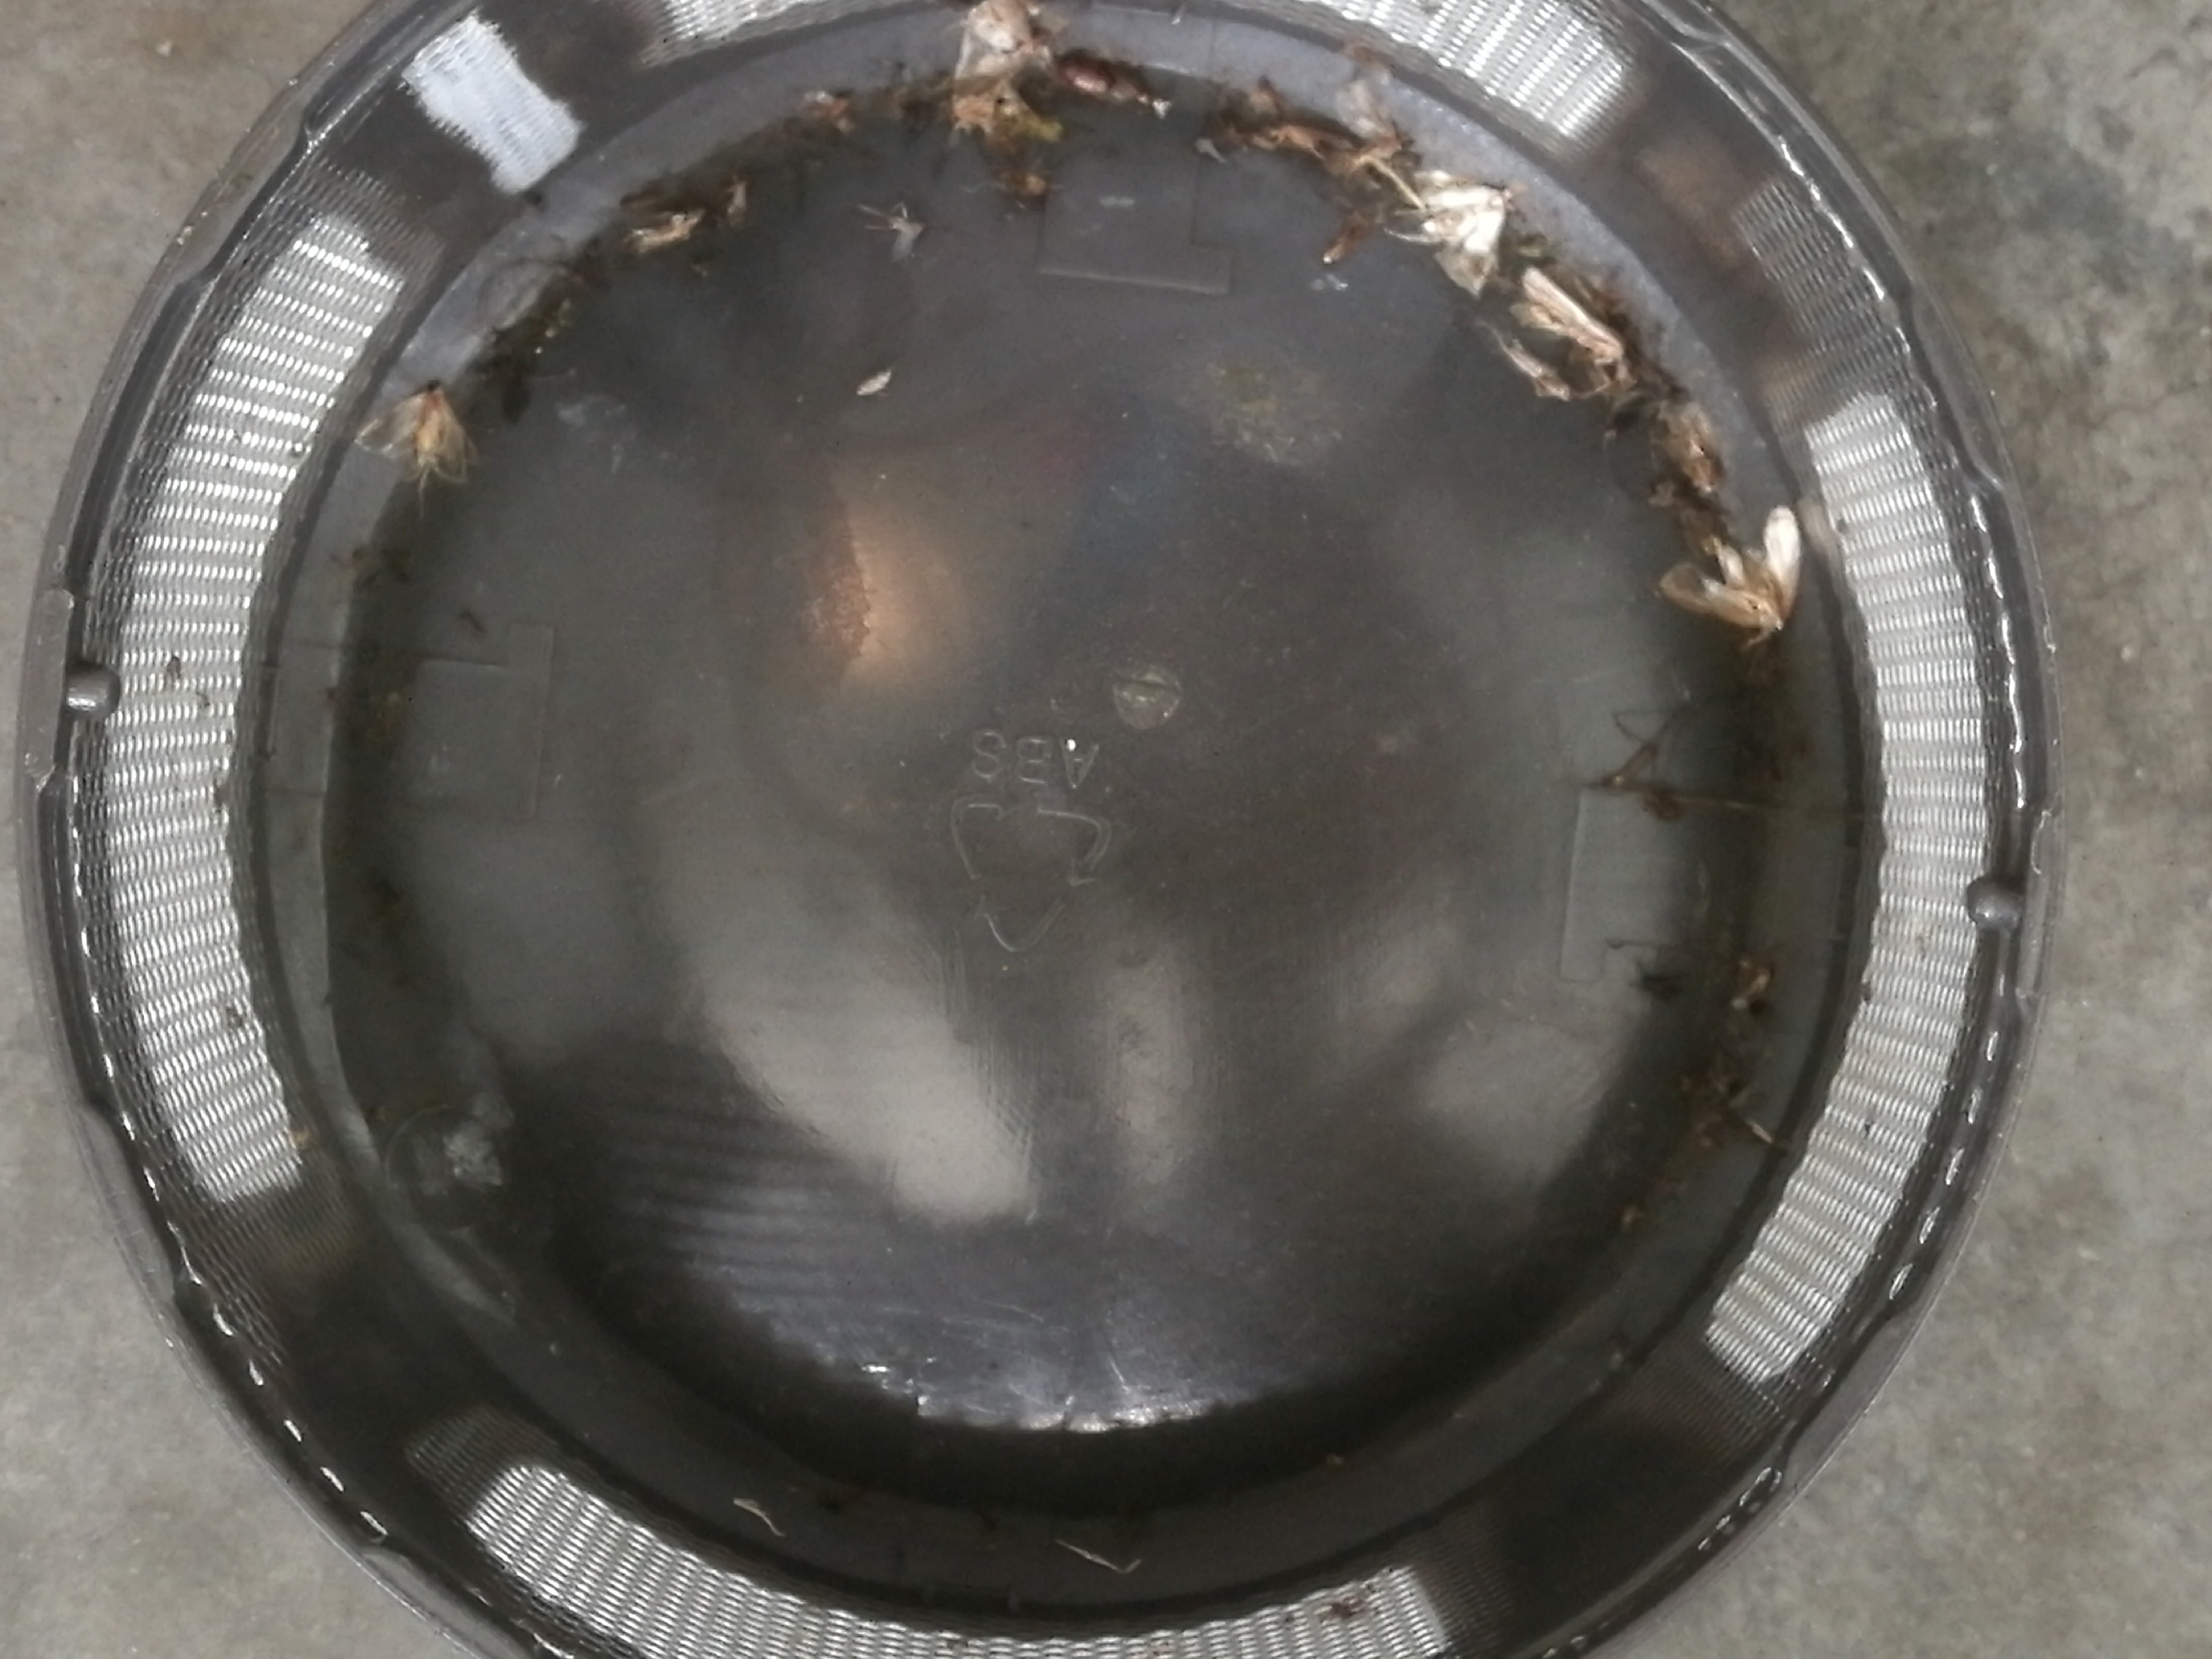mosquito: (1510, 268, 1625, 362)
moth: (1658, 505, 1801, 631), (357, 383, 470, 483), (1425, 185, 1503, 253), (968, 9, 1036, 82)
